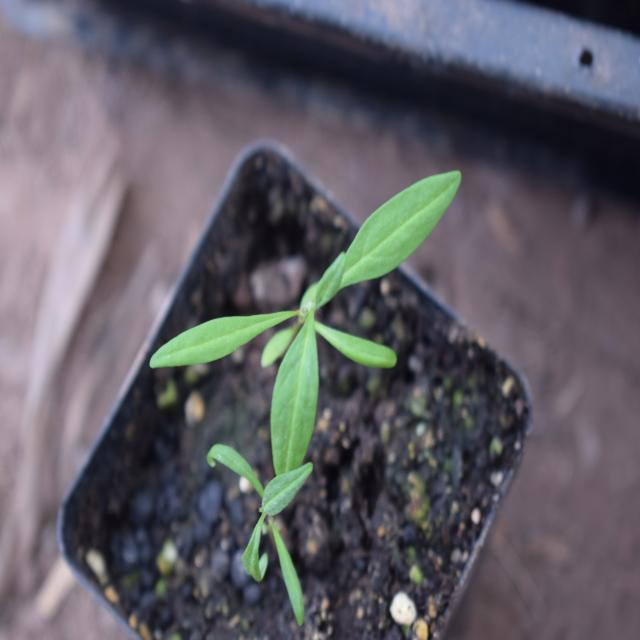white_smart_weed: (154, 136, 468, 448)
